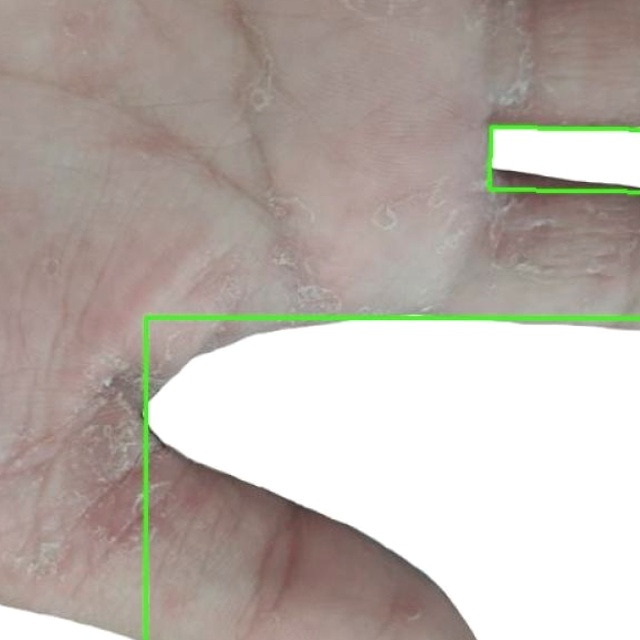Scabies: (0, 0, 639, 639), (145, 317, 639, 639), (490, 126, 639, 190)
